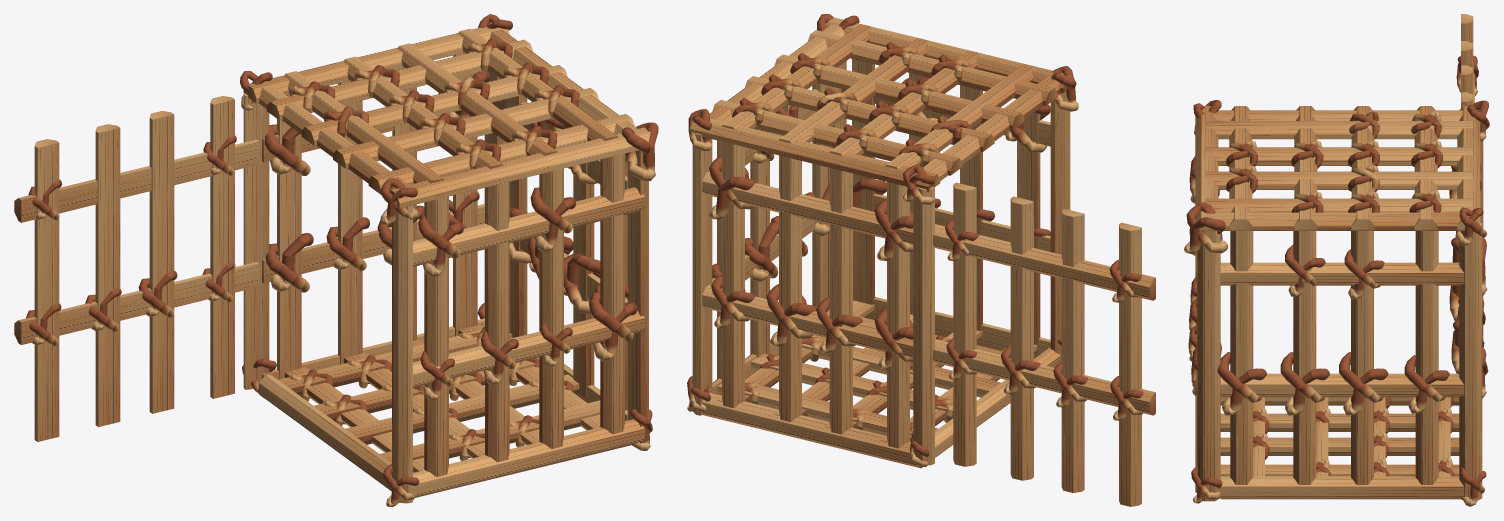
File: gaiolaAbertaTexturizada1.fbx
The picture shows the model from 3 angles, left to right: view 1: azimuth 30°, elevation 25°; view 2: azimuth 150°, elevation 25°; view 3: azimuth 270°, elevation 25°; orthographic projection. The views are drawn at different scales.
Visible parts, largest first — view 1: Gaiola; view 2: Gaiola; view 3: Gaiola.
Part boxes in pixels (box(x1,y1,x2,y2)): Gaiola: box(14, 14, 658, 506); Gaiola: box(687, 14, 1155, 506); Gaiola: box(1184, 14, 1489, 506).
Bounding box in the file's own units: 335 × 209 × 196.
Materials: 1 (1 with a texture image).
